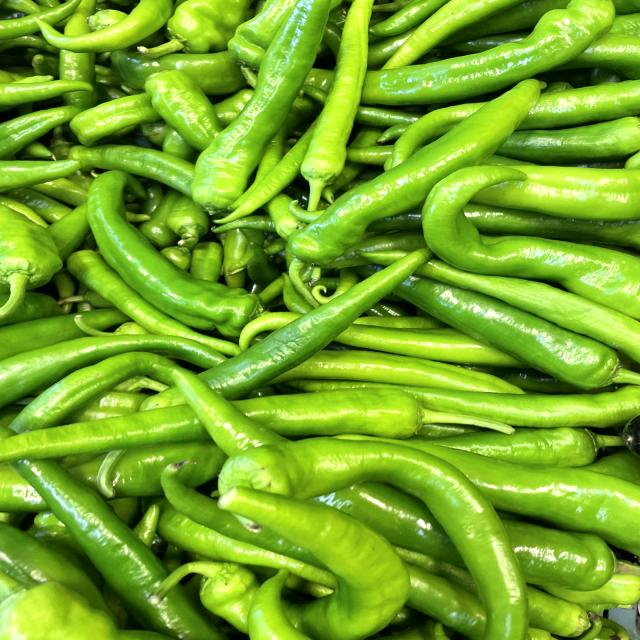green pepper: (284, 72, 551, 282), (175, 0, 346, 222), (385, 268, 640, 392)
